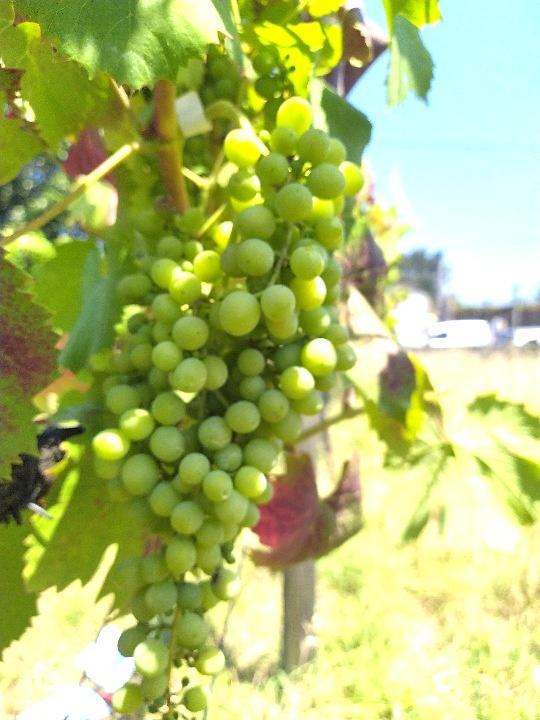grape: (89, 88, 369, 717)
